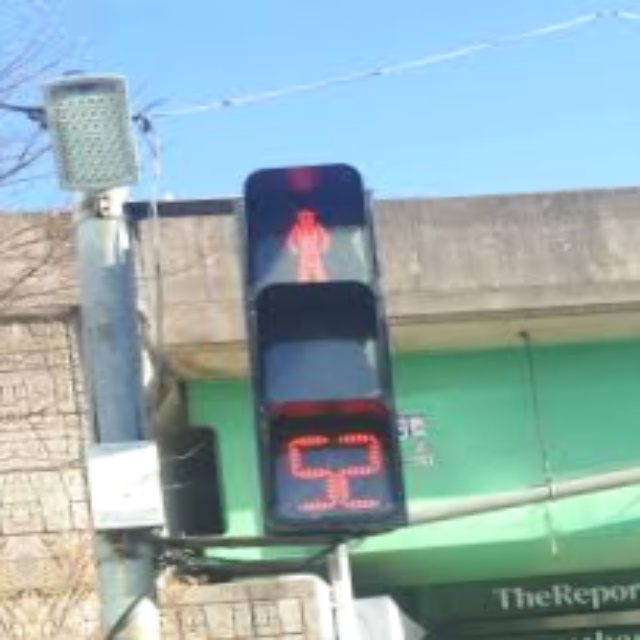red_light: (279, 429, 389, 523), (272, 205, 344, 289)
